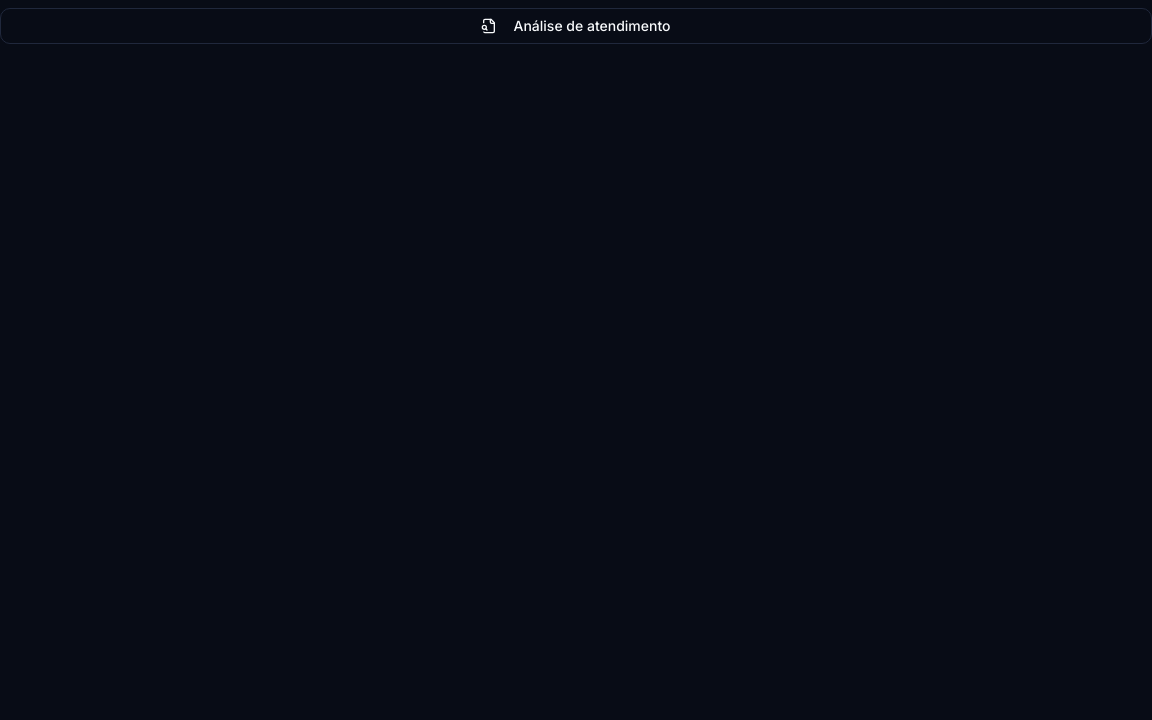
Inbox analysis popup › shows empty-sample errors without offering a PDF
Step 1. Click the button "Análise de atendimento" → (576, 26), box x1=0 y1=8 x2=1151 y2=44
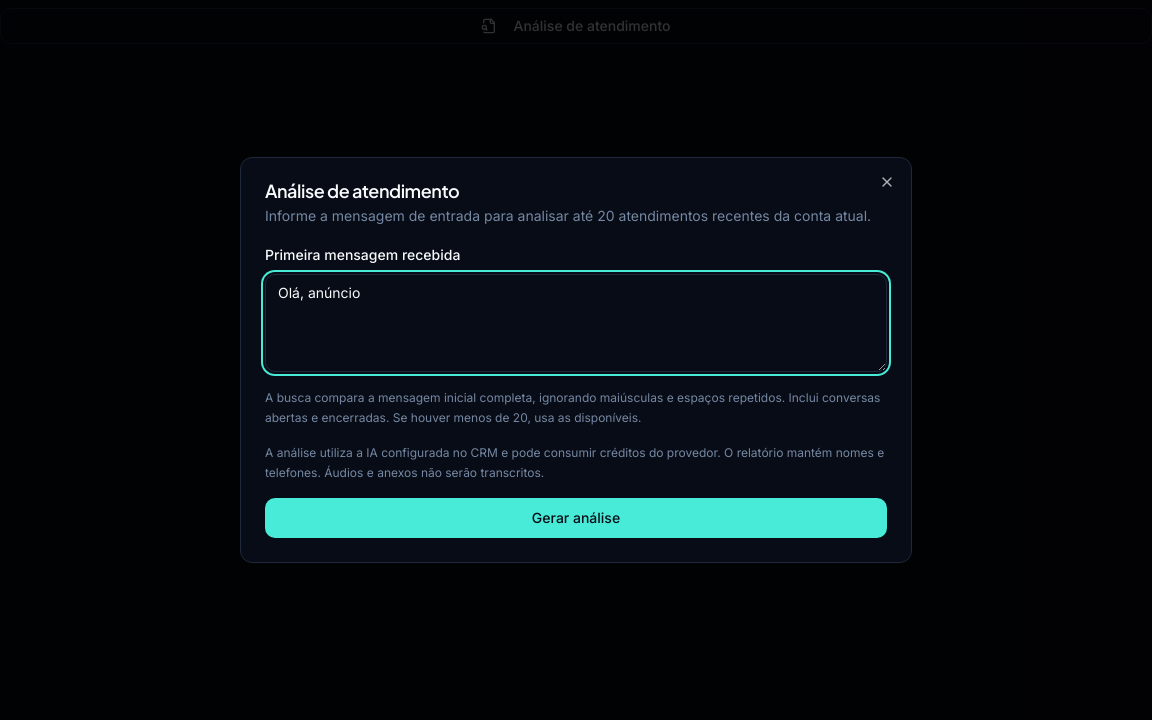
Step 2. Click the button "Gerar análise" → (576, 518), box x1=265 y1=498 x2=887 y2=538
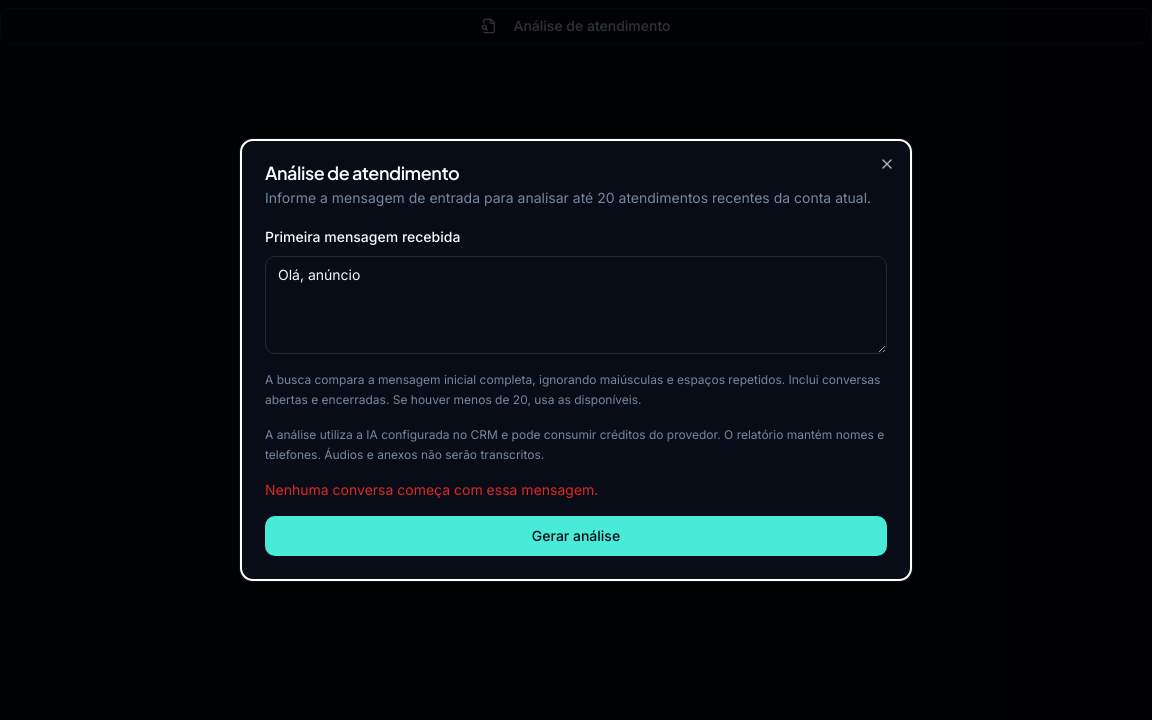
Now the message shows "Nenhuma conversa", box x1=265 y1=481 x2=598 y2=498
